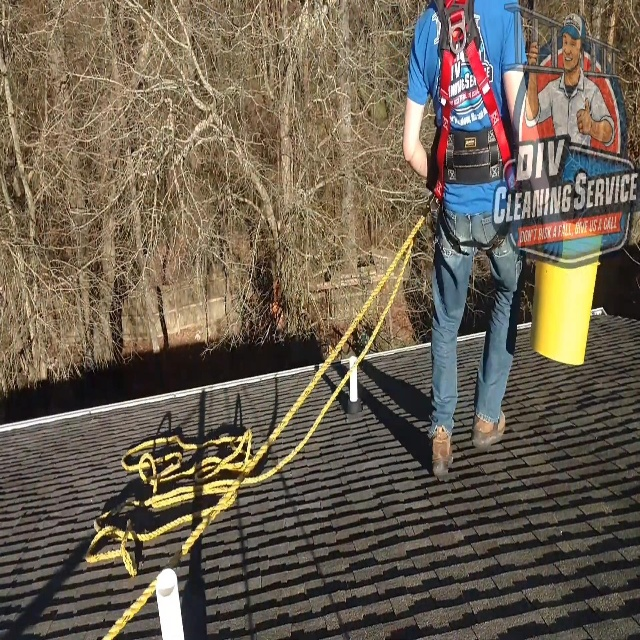Arnes_seguridad: (419, 0, 520, 256)
